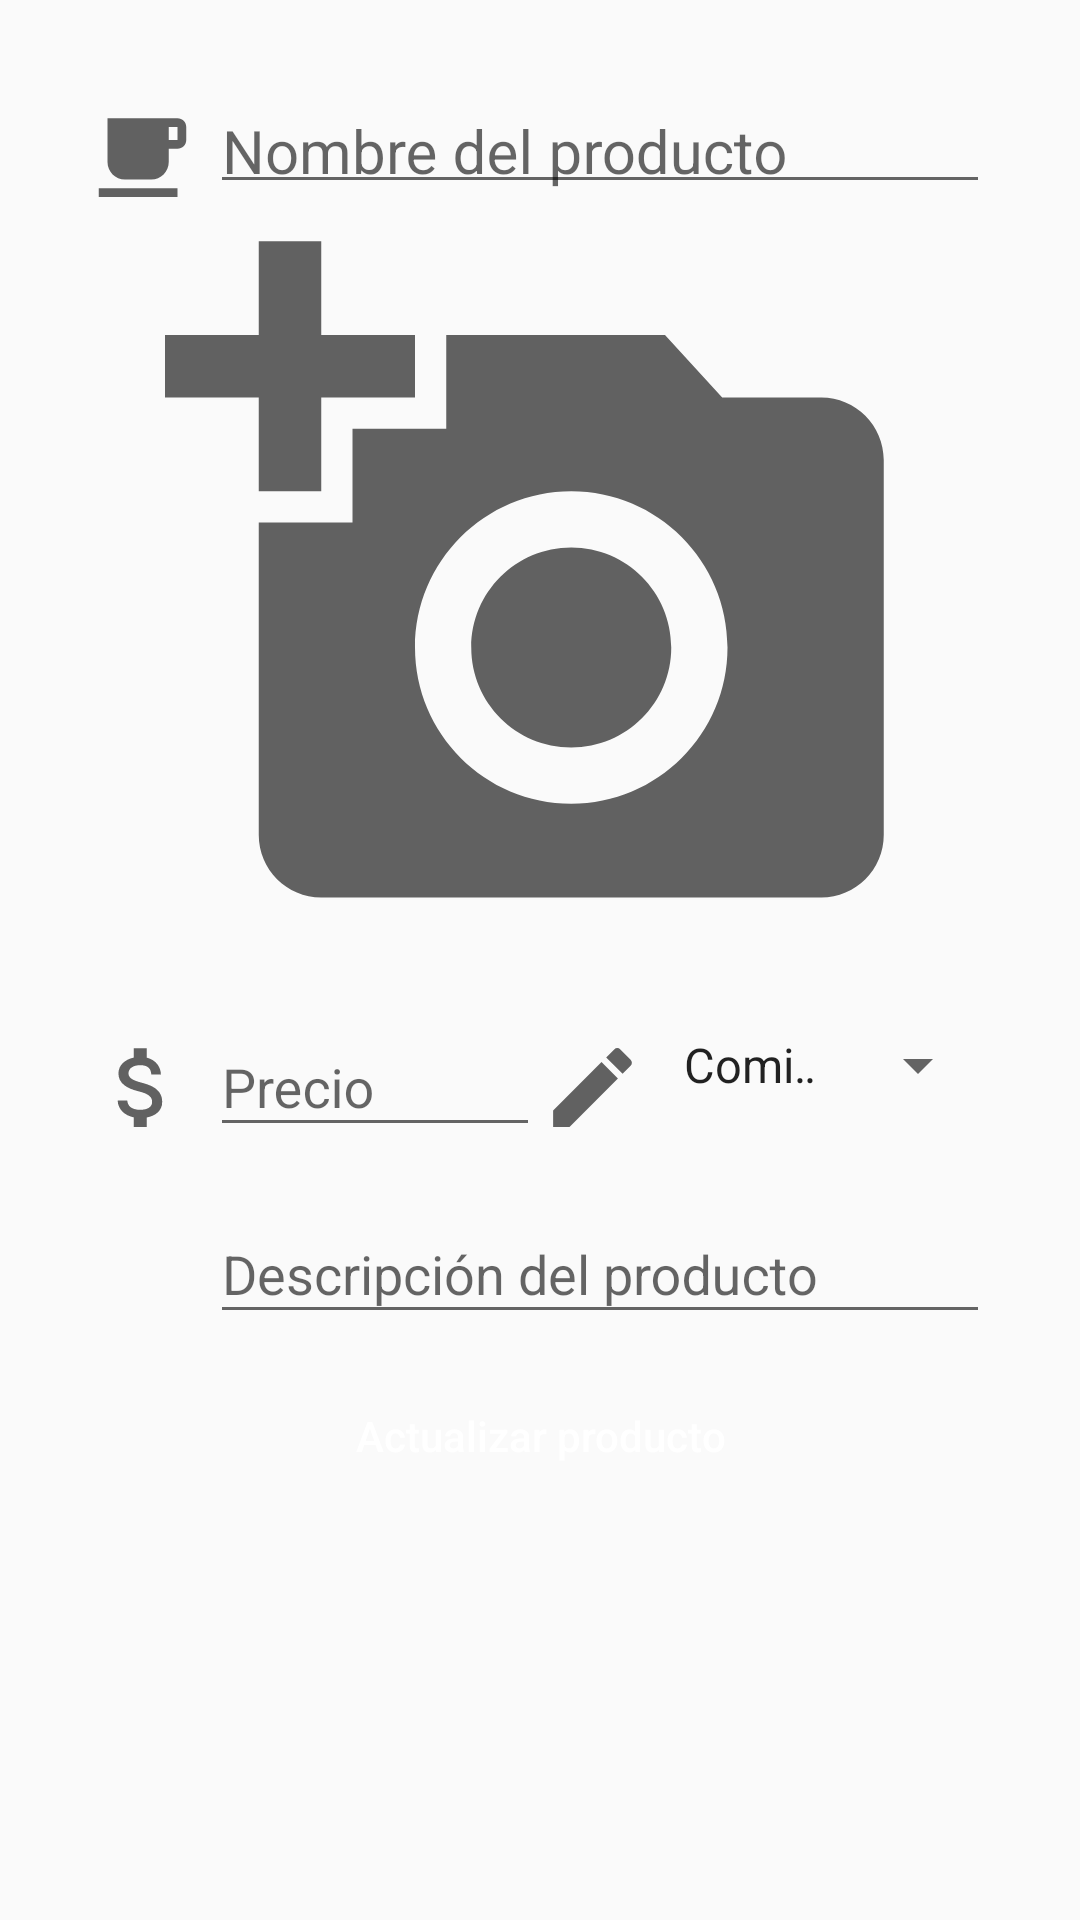

Locate icon controls on the screen. Image size 1080 x 1920, boxes as (x1, y1, x2, y2).
money: (117, 1048, 163, 1127)
pencil: (553, 1048, 632, 1127)
productos: (98, 118, 187, 197)
